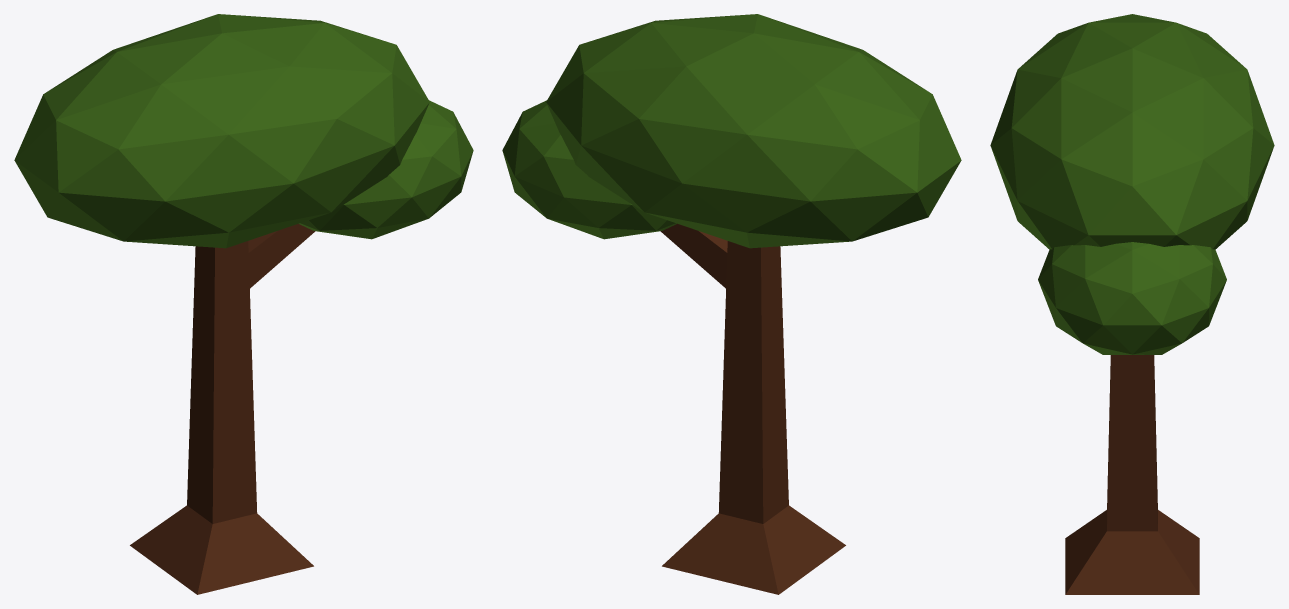
Rendered from Tree.fbx.
3 renders of one model, left to right at view 1: azimuth 30°, elevation 25°; view 2: azimuth 150°, elevation 25°; view 3: azimuth 270°, elevation 25°, orthographic.
Visible parts, largest first — view 1: Icosphere; view 2: Icosphere; view 3: Icosphere.
Part boxes in pixels (box(x1,y1,x2,y2)): Icosphere: box(14, 14, 473, 594); Icosphere: box(502, 14, 961, 594); Icosphere: box(990, 14, 1274, 594).
Size of the model in its own units: 1898 by 2243 by 1115.
